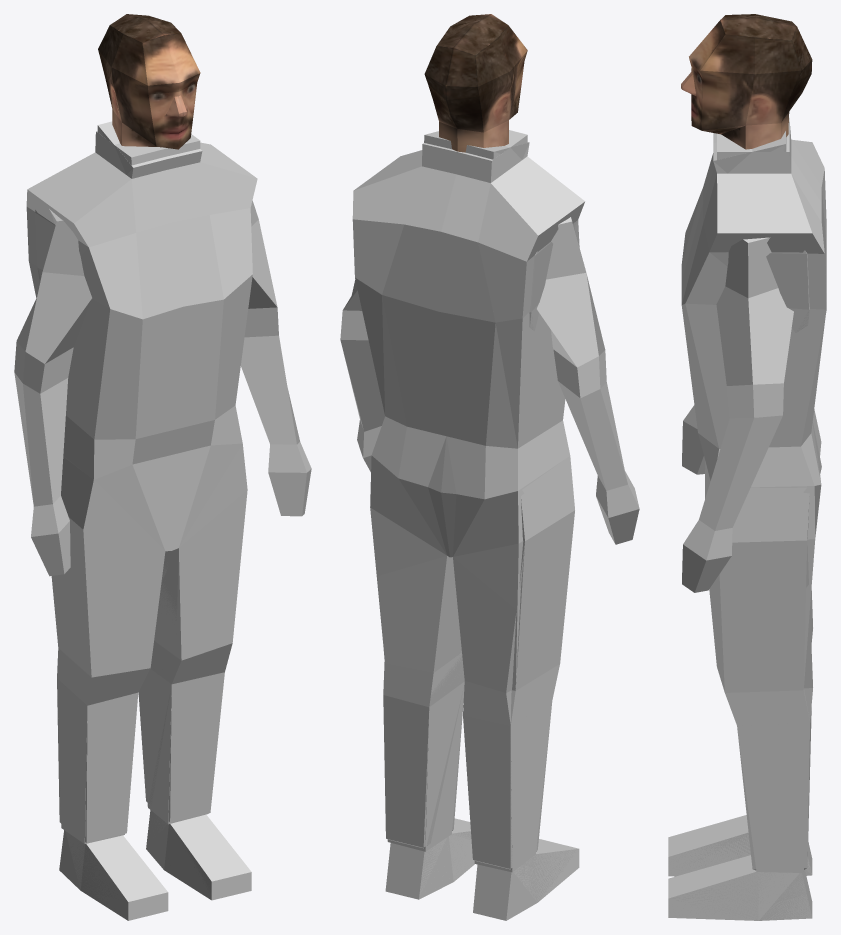
File: body.fbx
3 views of the same model, side by side, from view 1: azimuth 30°, elevation 25°; view 2: azimuth 150°, elevation 25°; view 3: azimuth 270°, elevation 25° (orthographic).
Visible parts, largest first — view 1: torso.001, torso.003, torso.002, Cube.001, head.001, Cube; view 2: torso.001, Cube, Cube.001, head.001, torso.002, torso.003; view 3: torso.001, Cube.001, torso.002, torso.003, head.001, Cube.
Part boxes in pixels (<box>): torso.001: <box>26,131,257,843</box>; torso.003: <box>35,121,251,920</box>; torso.002: <box>52,444,247,677</box>; Cube.001: <box>14,200,311,576</box>; head.001: <box>98,14,200,149</box>; Cube: <box>37,126,211,906</box>; torso.001: <box>352,130,584,872</box>; Cube: <box>377,135,577,920</box>; Cube.001: <box>340,217,639,544</box>; head.001: <box>424,14,527,152</box>; torso.002: <box>515,456,574,690</box>; torso.003: <box>420,131,579,902</box>; torso.001: <box>681,117,826,872</box>; Cube.001: <box>682,237,793,592</box>; torso.002: <box>709,487,809,692</box>; torso.003: <box>668,131,812,920</box>; head.001: <box>681,14,812,149</box>; Cube: <box>668,135,826,920</box>.
Bounding box in the file's own units: 67.36 × 196 × 32.36.
